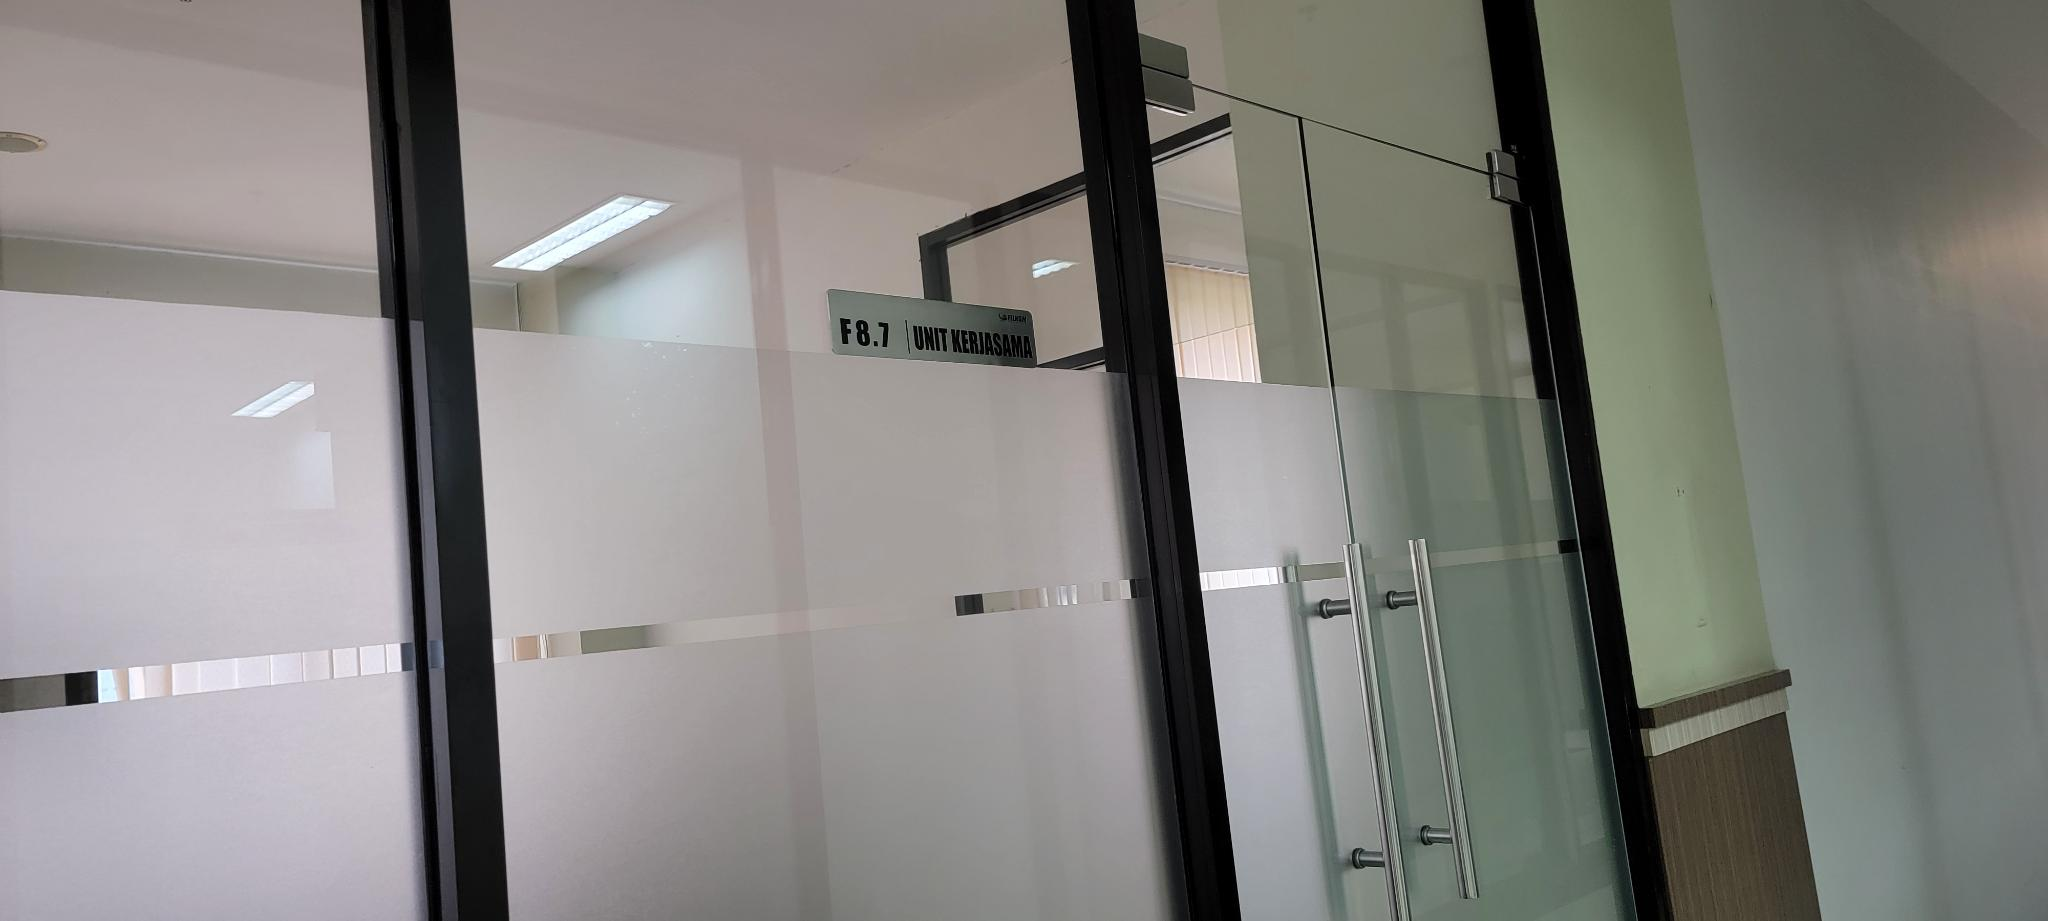plate: (828, 289, 1038, 367)
